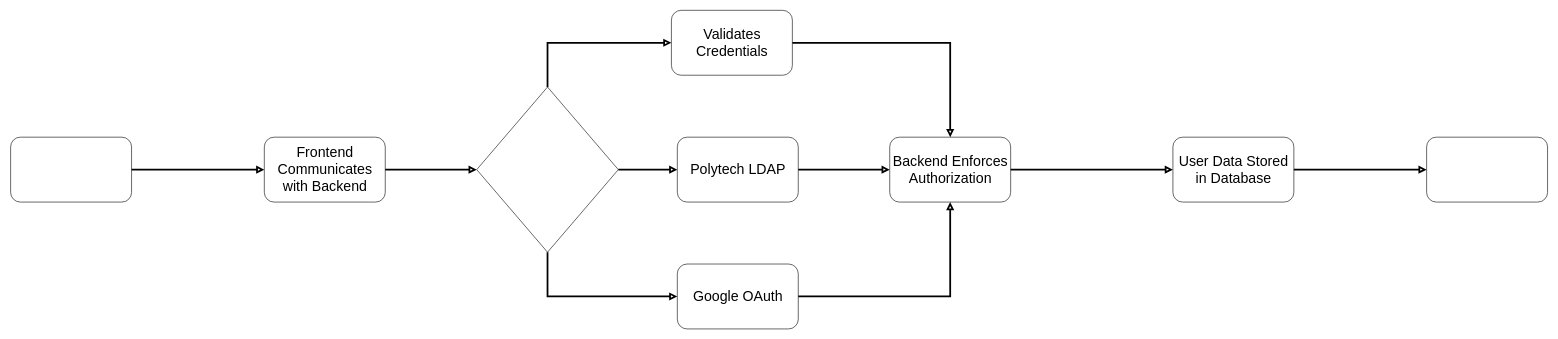
Image size: 1558x339. Some labels were removed from this diagram. Each missing label, with the centre of its shape:
Authentication via Keycloak: pixel 547 169
Backend Servers USer Requests: pixel 1487 169
User Interacts with Frontend: pixel 71 169
